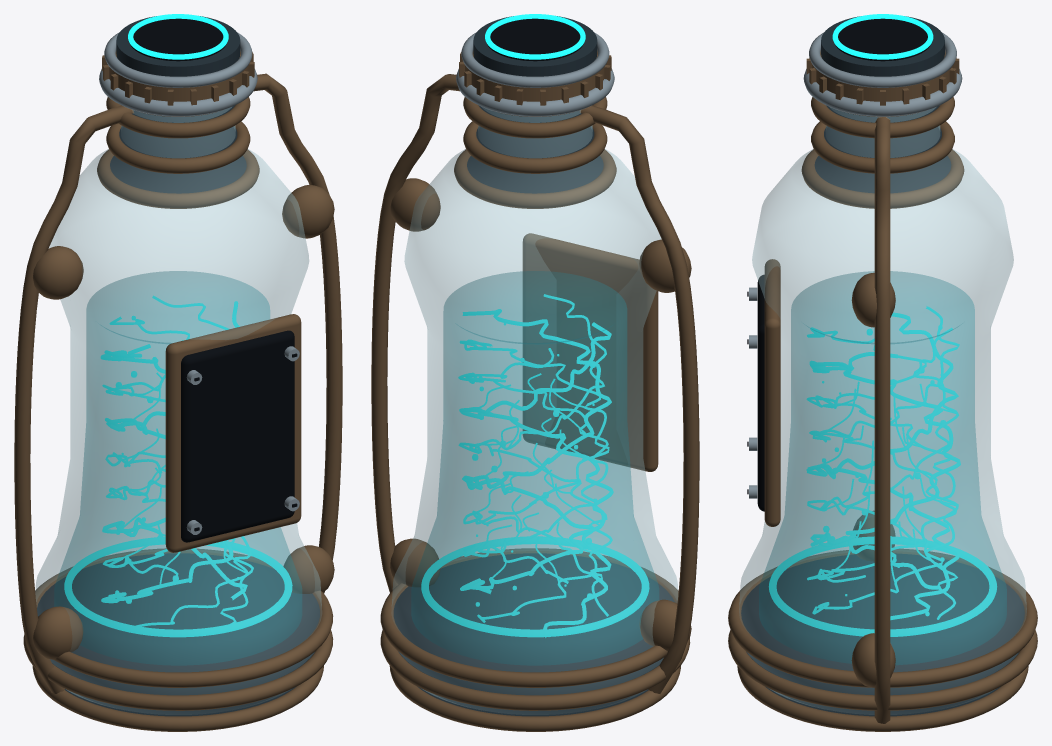
Rendered from aether-decanter.glb.
The picture shows the model from 3 angles, left to right: view 1: azimuth 30°, elevation 25°; view 2: azimuth 150°, elevation 25°; view 3: azimuth 270°, elevation 25°; orthographic projection.
Visible parts, largest first — view 1: Optical glass, Aged bronze (×2), Liquid, Brushed titanium (×2), LabelSurface, Energy (×2), Ceramic inserts (×2), Machined edges (×2); view 2: Optical glass, Aged bronze (×2), Liquid, Brushed titanium (×2), Energy (×2), Machined edges, Ceramic inserts; view 3: Optical glass, Liquid, Aged bronze (×2), Brushed titanium (×2), Energy (×2), Ceramic inserts (×2), Machined edges.
Boxes of the visible parts, x1,y1,x2,y2 form: Optical glass: (35, 107, 321, 714); Aged bronze (×2): (14, 50, 342, 731); Liquid: (54, 271, 301, 665); Brushed titanium (×2): (37, 16, 319, 716); LabelSurface: (193, 352, 289, 525); Energy (×2): (64, 14, 292, 637); Ceramic inserts (×2): (130, 18, 297, 542); Machined edges (×2): (99, 32, 299, 534); Optical glass: (391, 107, 677, 714); Aged bronze (×2): (371, 50, 699, 731); Liquid: (411, 271, 658, 665); Brushed titanium (×2): (393, 16, 674, 716); Energy (×2): (421, 14, 649, 637); Machined edges: (456, 32, 614, 116); Ceramic inserts: (487, 18, 583, 61); Optical glass: (739, 108, 1026, 714); Liquid: (759, 271, 1006, 664); Aged bronze (×2): (728, 50, 1037, 731); Brushed titanium (×2): (741, 16, 1024, 716); Energy (×2): (769, 14, 996, 636); Ceramic inserts (×2): (747, 18, 930, 511); Machined edges: (803, 32, 962, 116).
Size of the model in its own units: 1.64 by 3.06 by 1.35.
